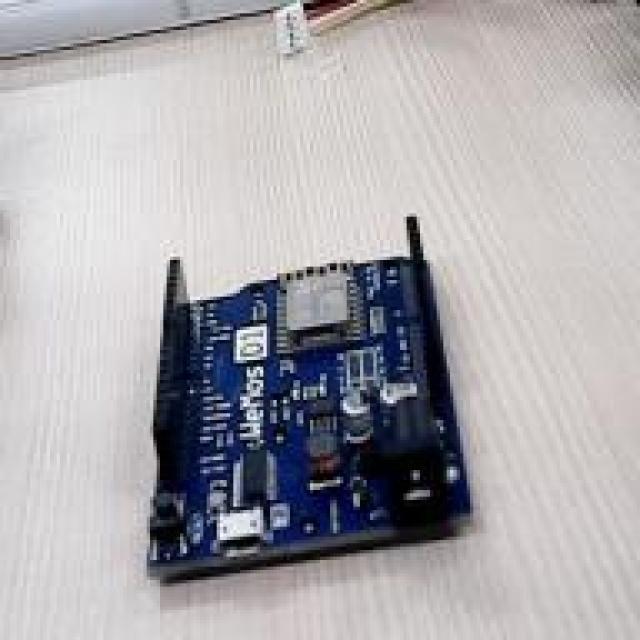Wemos: (148, 218, 468, 571)
